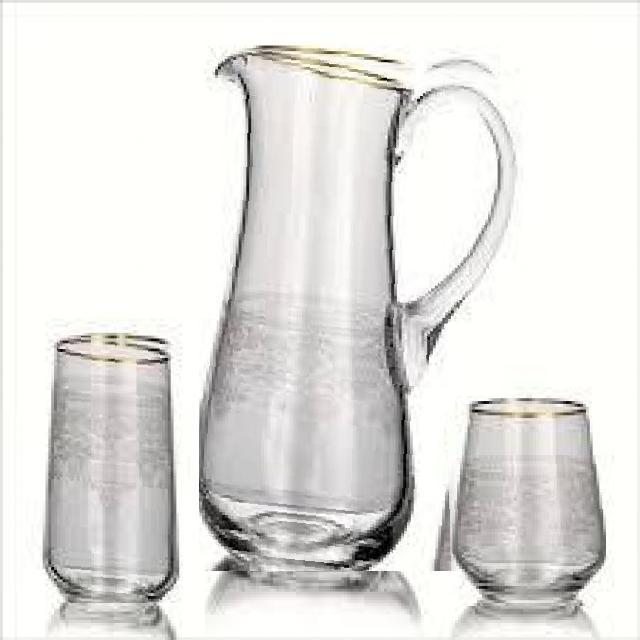Glass: (199, 44, 523, 572), (41, 333, 181, 603), (447, 396, 606, 606)
